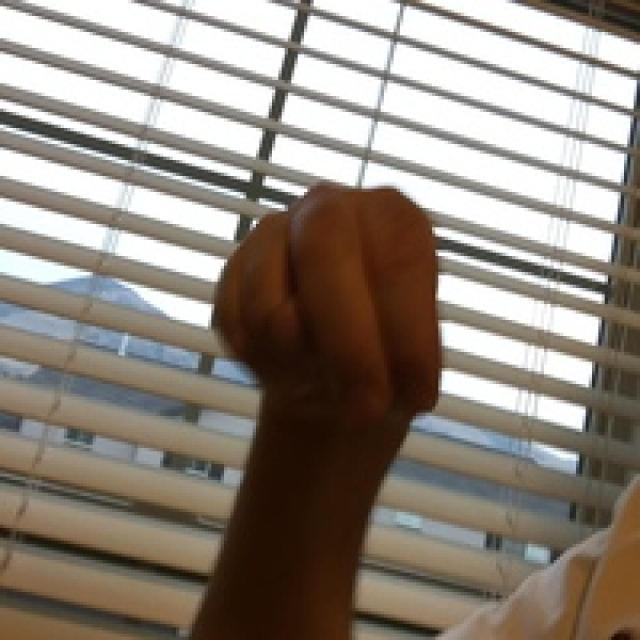N: (184, 120, 484, 499)
